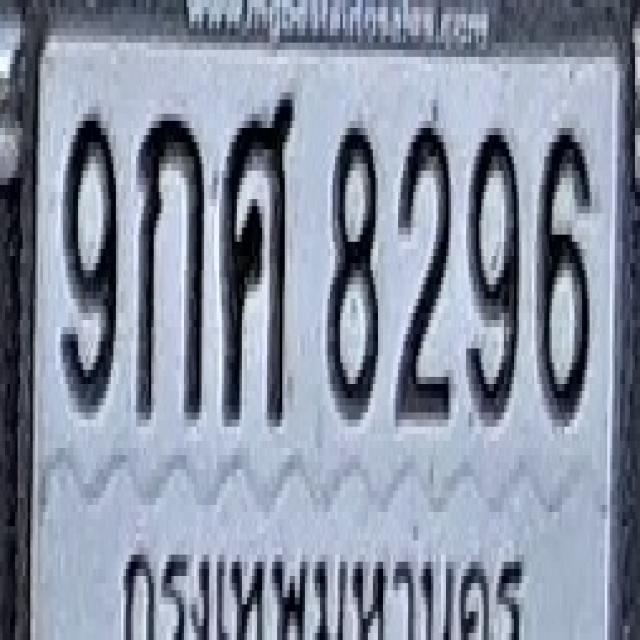-: (220, 86, 294, 420), (136, 103, 204, 416)
2: (396, 117, 451, 416)
6: (536, 117, 590, 416)
8: (326, 117, 377, 416)
9: (62, 107, 117, 405), (466, 117, 519, 416)
